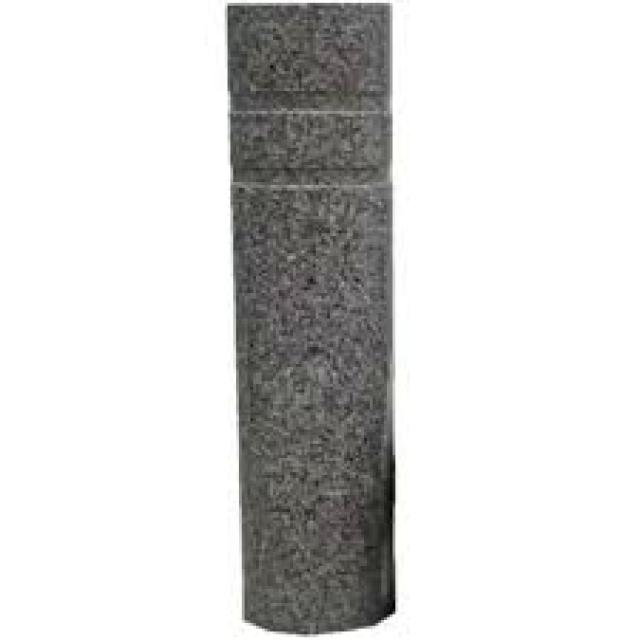bollard: (217, 2, 407, 635)
